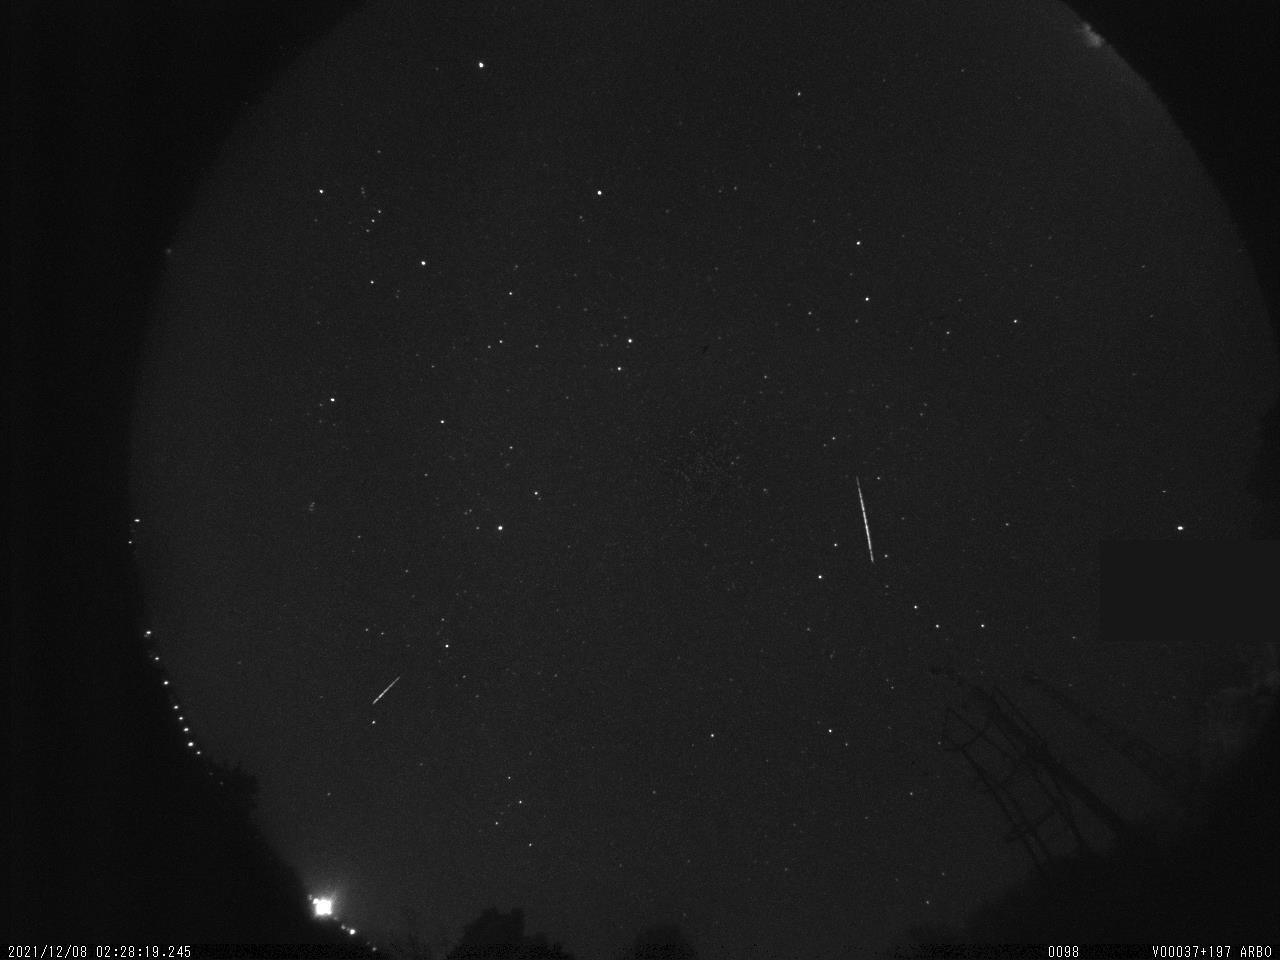meteor: (845, 461, 898, 572)
